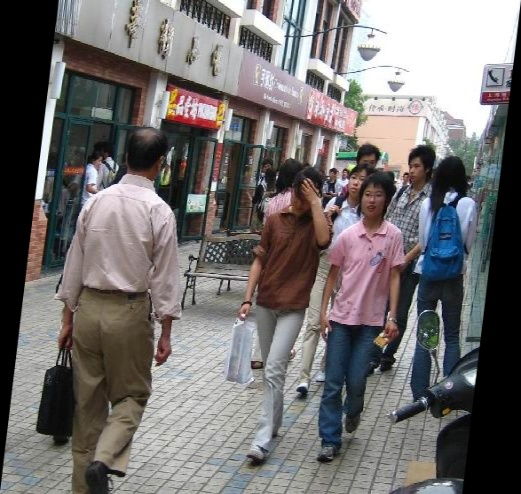person: (25, 116, 196, 493), (227, 164, 326, 467), (309, 171, 401, 470), (397, 156, 486, 396)
